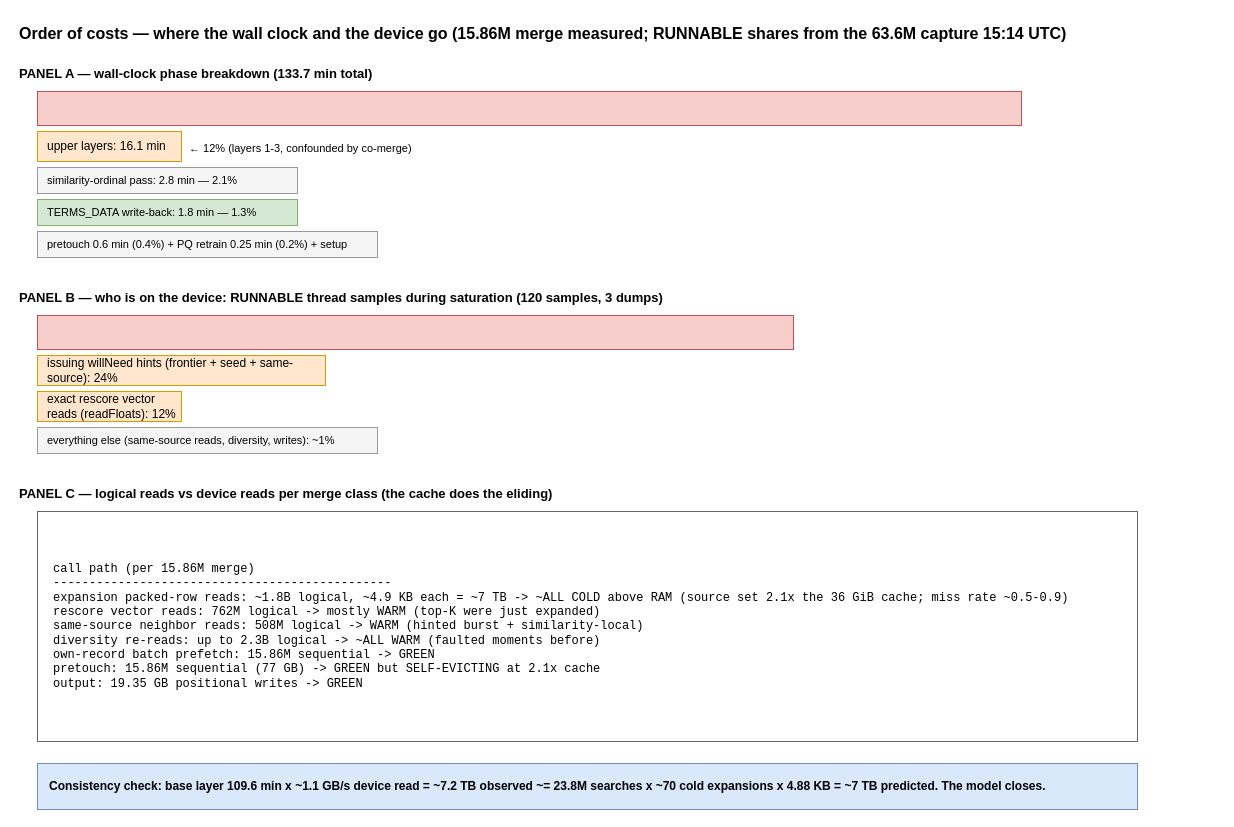
Image size: 1234x827. Some labels were removed from this diagram. Here are the shapes that lost their labels. From the top down, the box of each, then its label:
(36, 90, 1022, 126): base layer (cross-source searches): 109.6 min — 82%
(36, 314, 794, 350): cross-source EXPANSION reads (FusedPQ packed row, blocked in readFully): 63%
